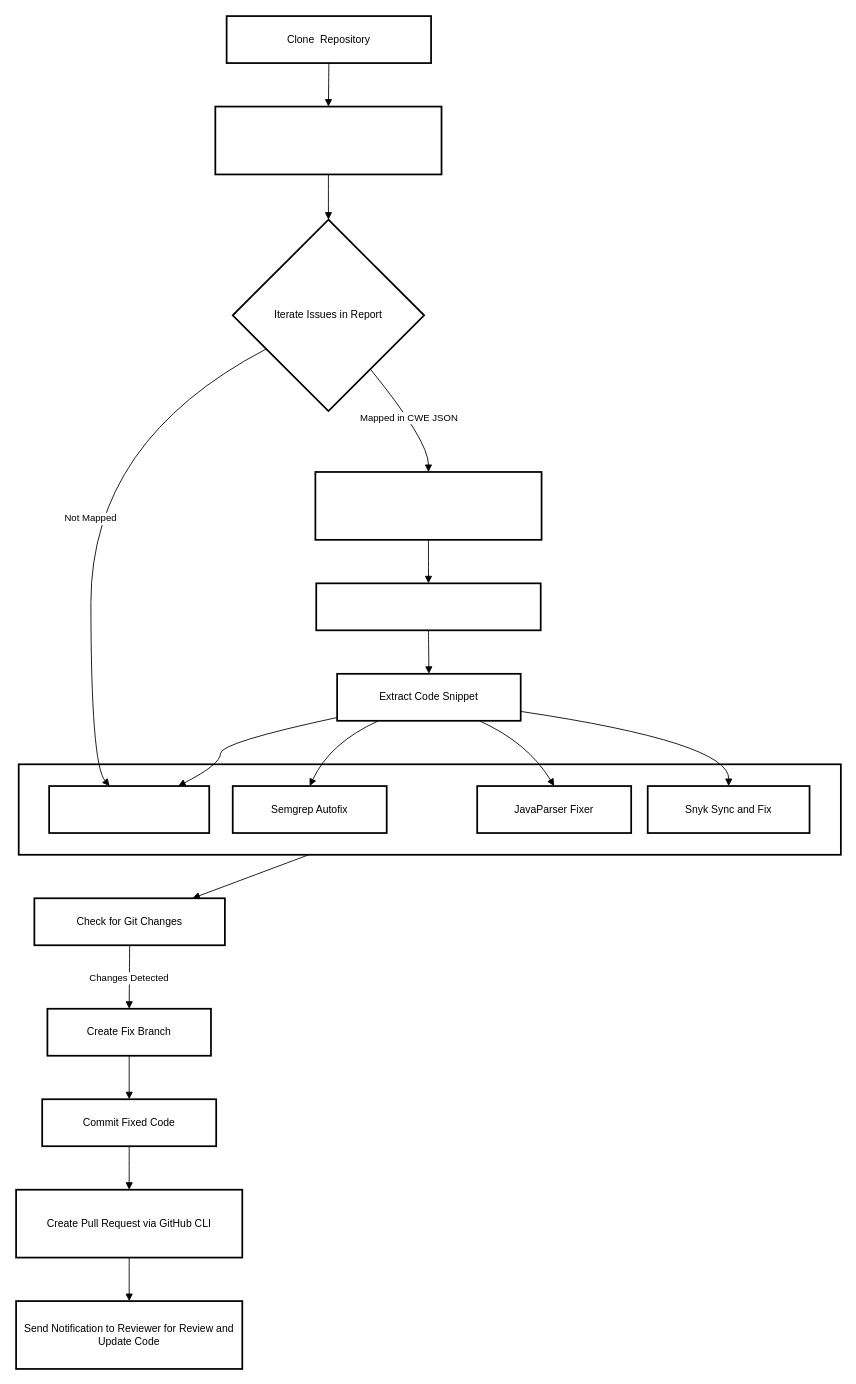
Image size: 856x1384. Some labels were removed from this diagram. Each missing label, with the box of its shape:
CodeFix Engine: (17, 763, 841, 855)
Fetch SonarQube Report (JSON): (214, 105, 442, 175)
Locate Source File and Line: (315, 582, 541, 631)
Map Sonar Rule to CWE to Fix Strategy: (314, 471, 542, 540)
OpenAI LLM Fixer: (48, 785, 210, 833)
